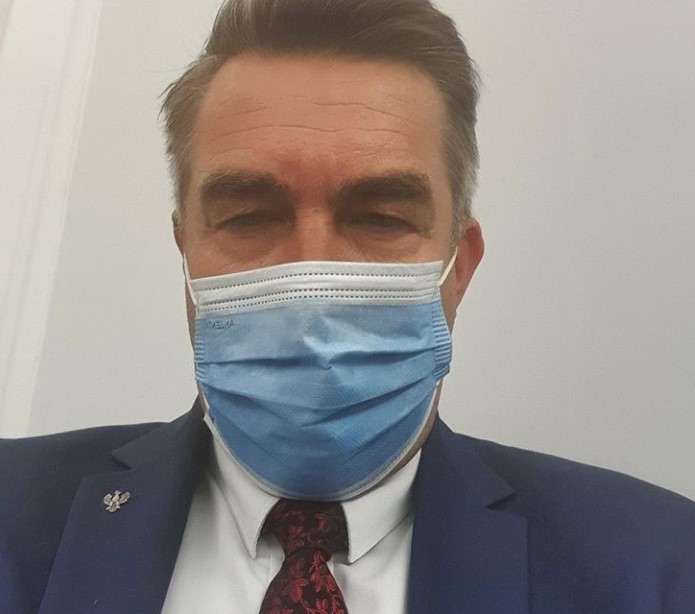face_with_mask: (156, 3, 484, 505)
